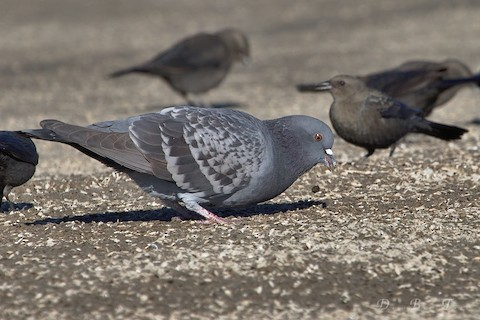pigeon: (15, 102, 343, 232), (291, 70, 474, 160), (96, 23, 262, 111)
